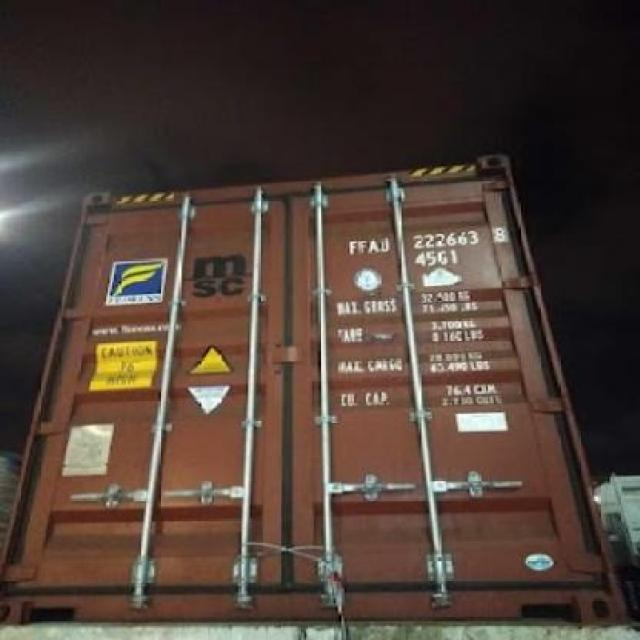ISO: (413, 246, 461, 269)
container_number: (344, 224, 514, 253)
